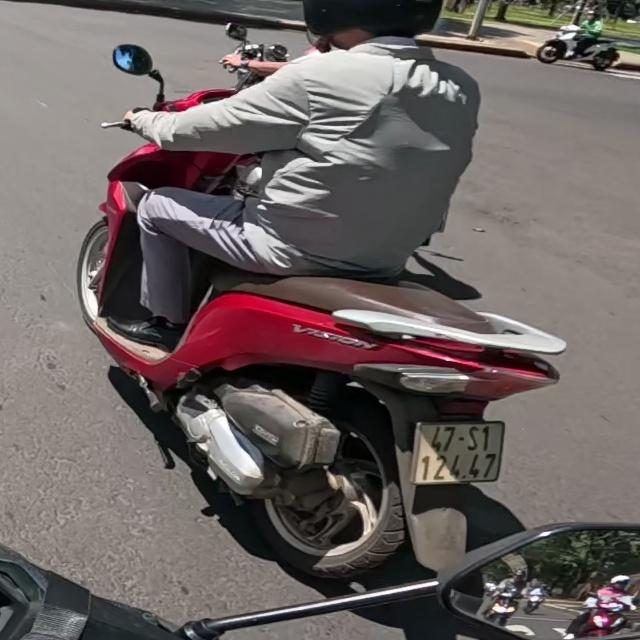license-plate: (406, 418, 509, 490)
